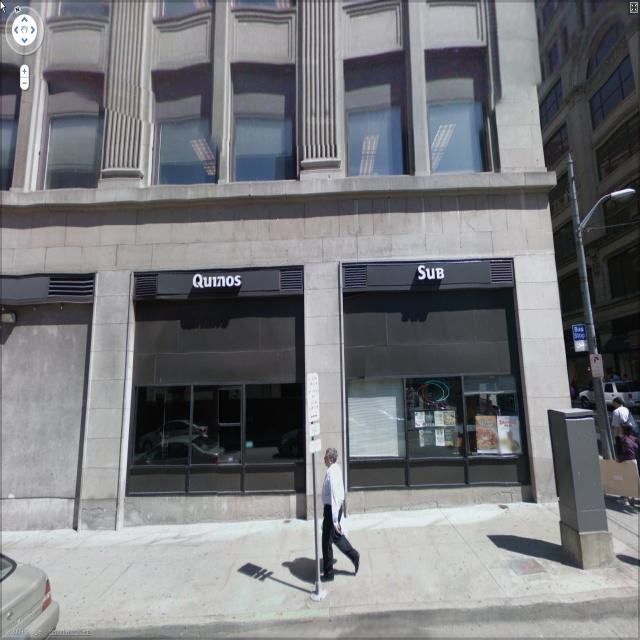b_1: (1, 1, 583, 483), (543, 10, 640, 442)
